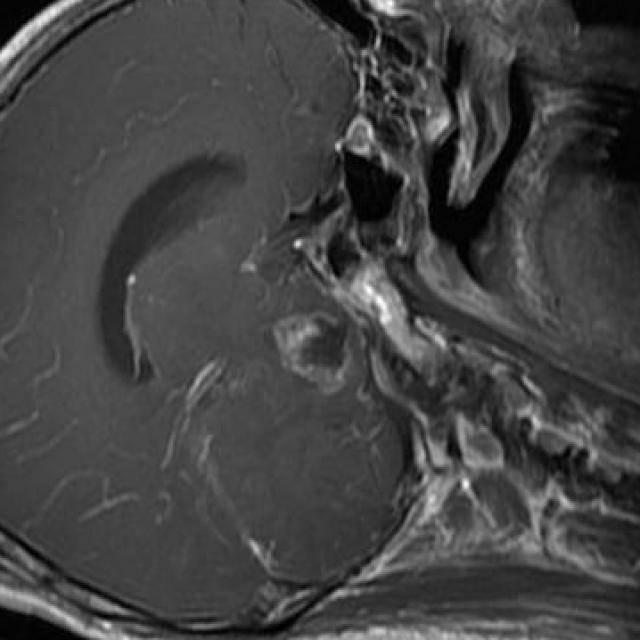glioma: (273, 312, 357, 398)
